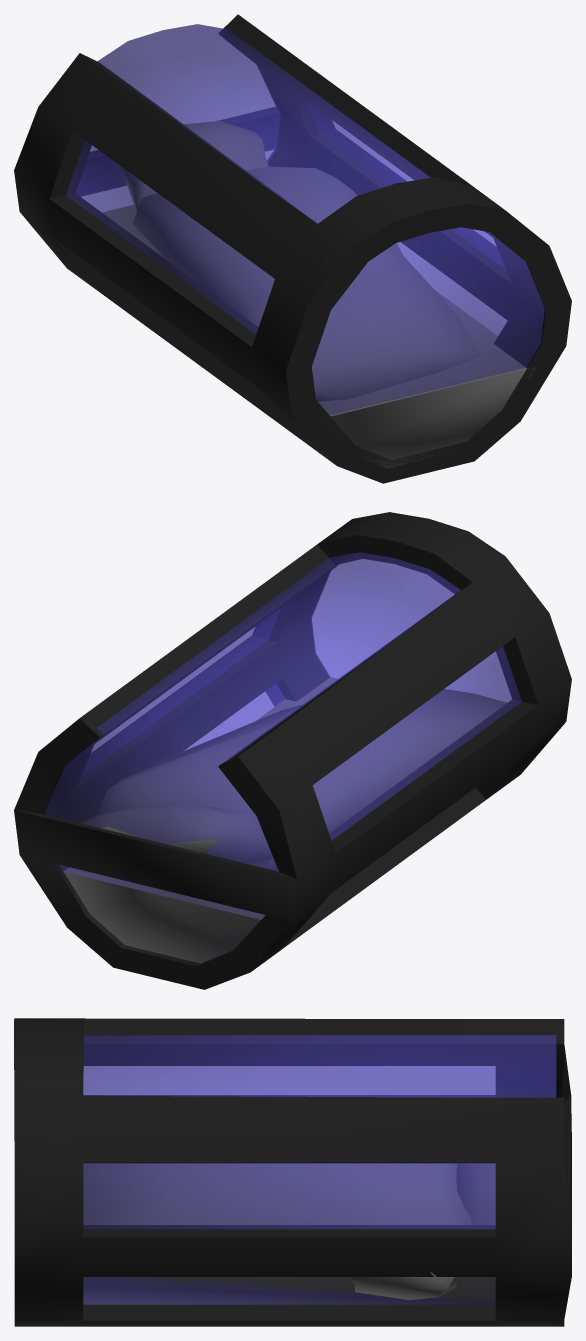
The model's file is bed_cyber.FBX.
The picture shows the model from 3 angles, top to bottom: view 1: azimuth 30°, elevation 25°; view 2: azimuth 150°, elevation 25°; view 3: azimuth 270°, elevation 25°; orthographic projection.
Visible parts, largest first — view 1: bed_cyber002, bed_cyberglass001, blanket001, bed_floor001, pillow001; view 2: bed_cyber002, bed_cyberglass001, blanket001, bed_floor001, pillow001; view 3: bed_cyber002, bed_cyberglass001, blanket001, bed_floor001, pillow001.
Boxes of the visible parts, <box> form: bed_cyber002: <box>14,14,571,483</box>; bed_cyberglass001: <box>66,24,544,415</box>; blanket001: <box>133,166,480,401</box>; bed_floor001: <box>102,205,537,468</box>; pillow001: <box>118,121,268,210</box>; bed_cyber002: <box>14,512,571,989</box>; bed_cyberglass001: <box>44,552,521,959</box>; blanket001: <box>95,689,506,871</box>; bed_floor001: <box>63,677,337,963</box>; pillow001: <box>81,803,272,866</box>; bed_cyber002: <box>14,1018,571,1326</box>; bed_cyberglass001: <box>83,1035,556,1304</box>; blanket001: <box>83,1163,471,1300</box>; bed_floor001: <box>83,1277,495,1304</box>; pillow001: <box>456,1163,495,1224</box>.
Bounding box in the file's own units: 3.62 × 3.19 × 6.
